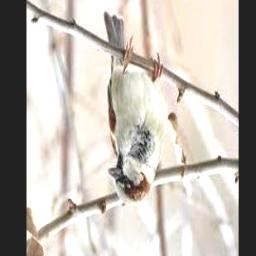Sparrow: (104, 13, 164, 205)
